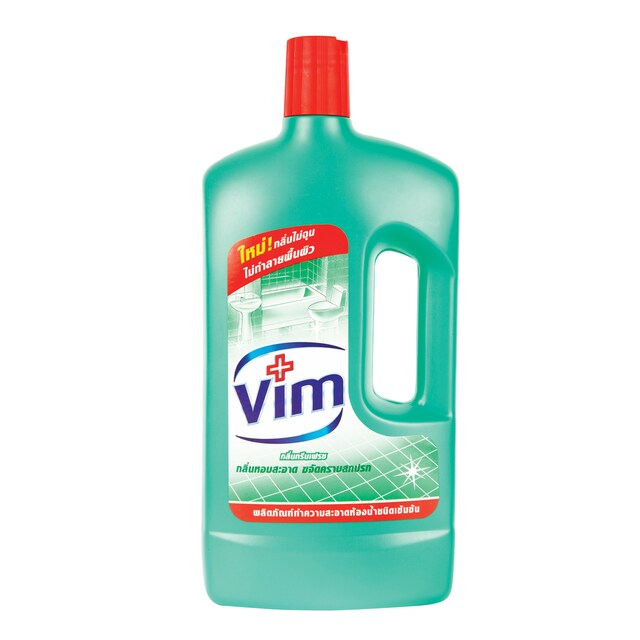Cleaning_solution: (194, 31, 467, 615)
